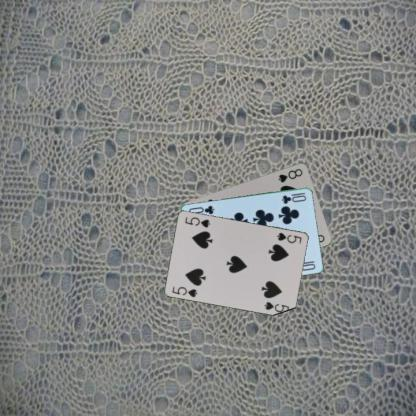10c: (279, 190, 307, 205)
5s: (274, 230, 303, 244), (170, 284, 199, 298)
8s: (276, 166, 304, 184)
